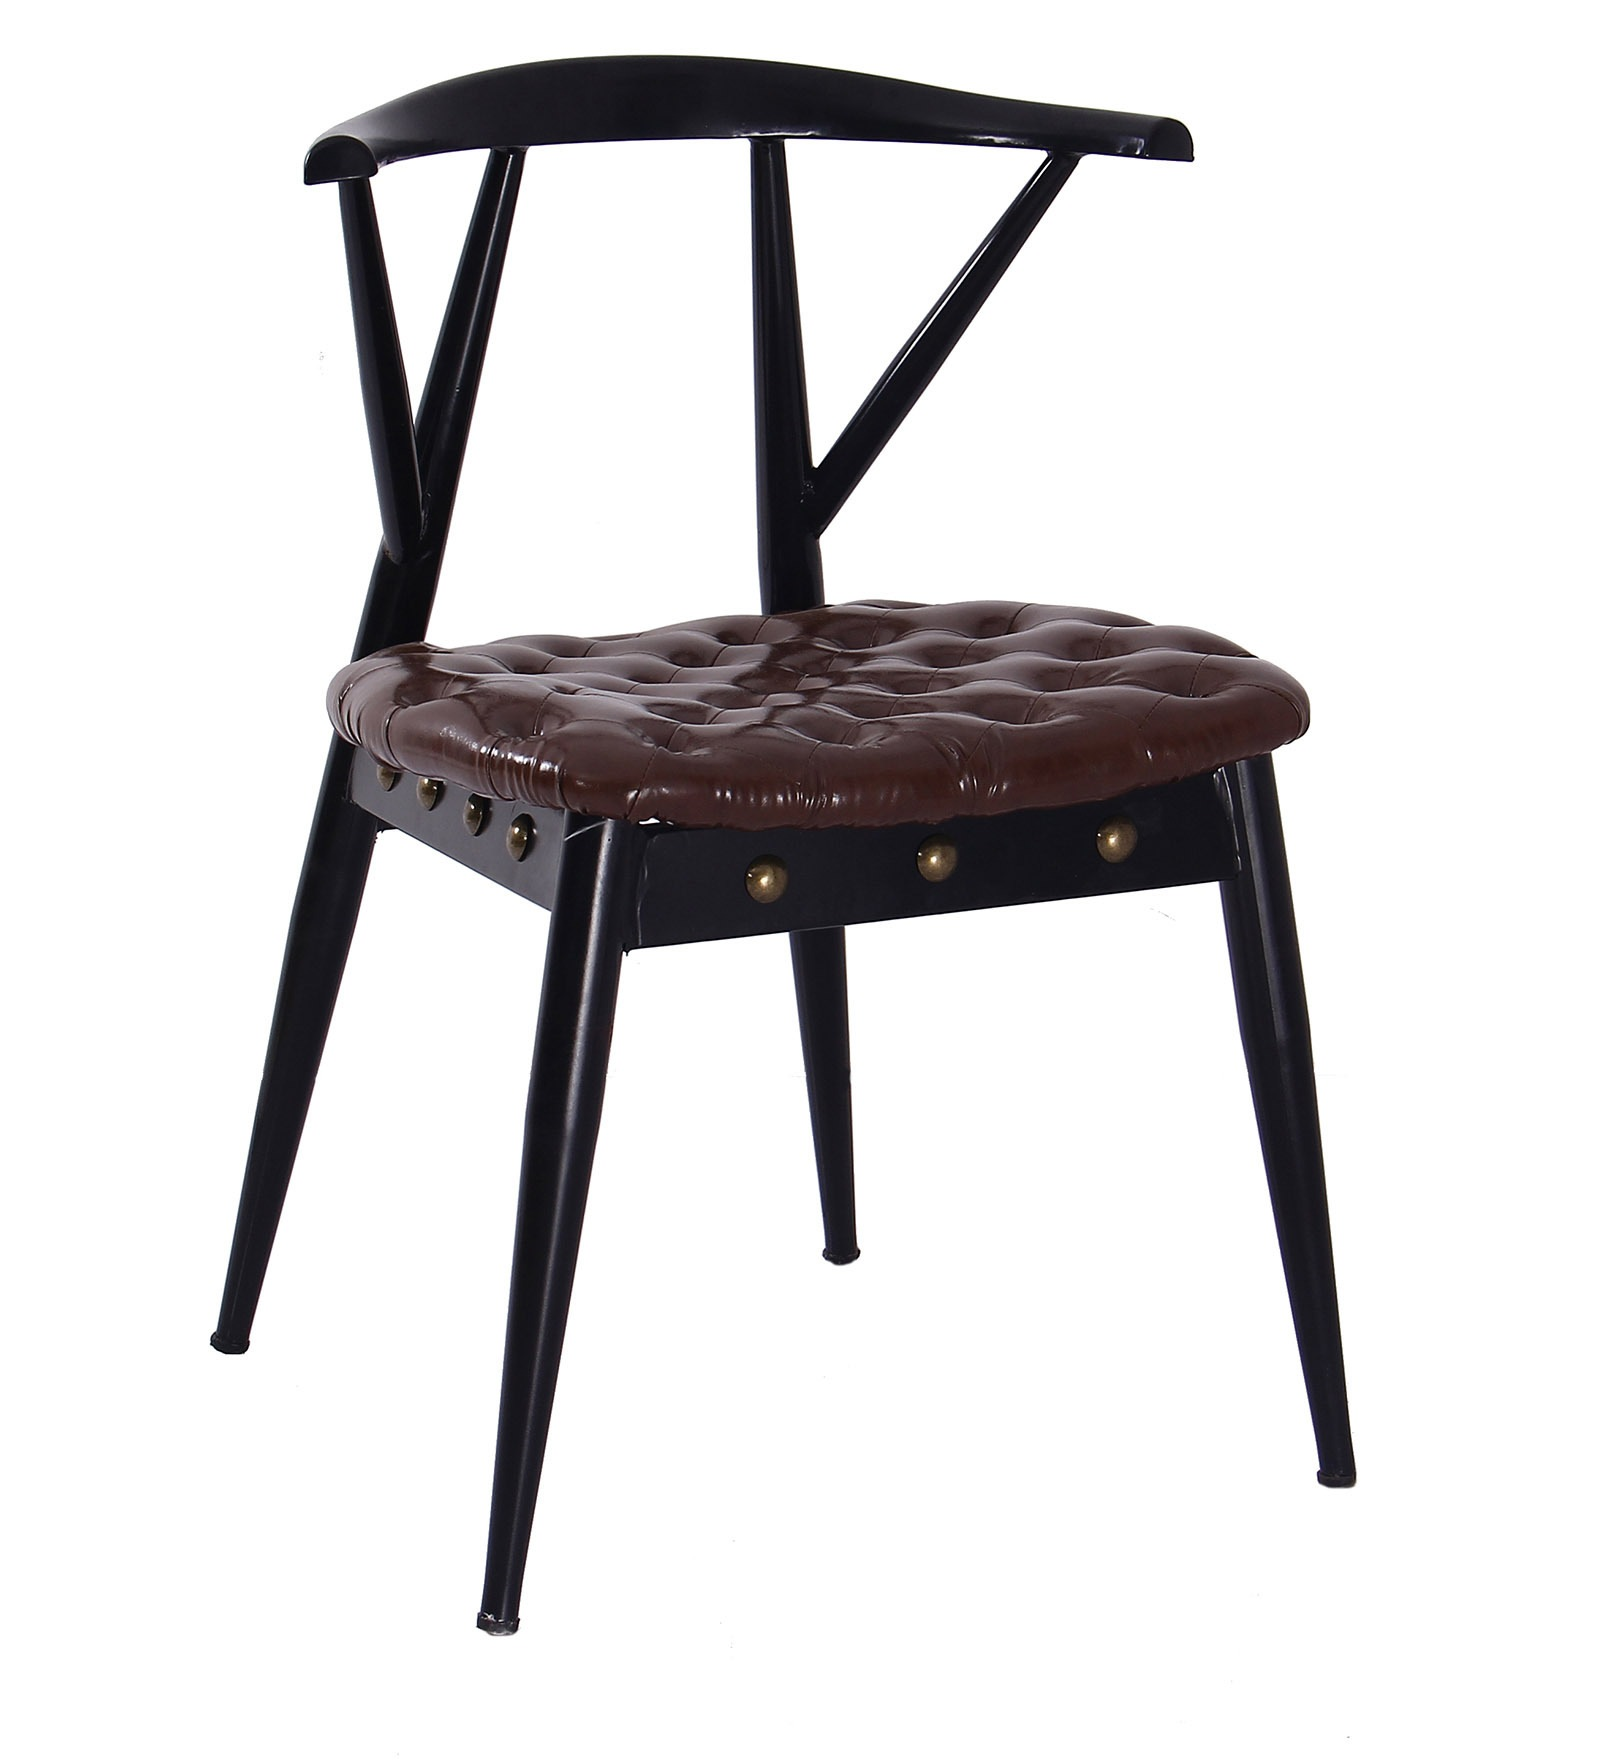Negus Metal Chair (Set of 2) in Black Colour by Bohemiana: (201, 43, 1378, 1633)
